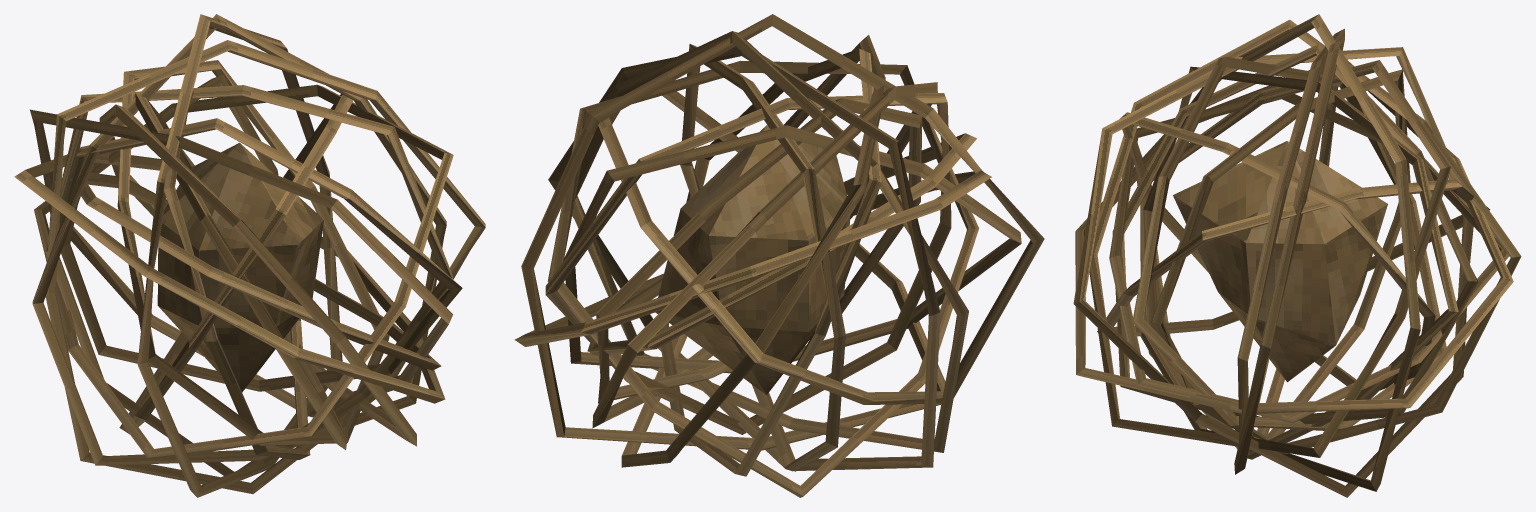
Rendered from tumbleweed.glb.
3 views of the same model, side by side, from view 1: azimuth 30°, elevation 25°; view 2: azimuth 150°, elevation 25°; view 3: azimuth 270°, elevation 25° (orthographic). The views are drawn at different scales.
Visible parts, largest first — view 1: tumbleweed_ball; view 2: tumbleweed_ball; view 3: tumbleweed_ball.
Boxes of the visible parts, x1,y1,x2,y2 form: tumbleweed_ball: [14, 14, 485, 497]; tumbleweed_ball: [514, 14, 1044, 497]; tumbleweed_ball: [1073, 14, 1521, 497].
Bounding box in the file's own units: 0.8105 × 0.8377 × 0.7772.
Materials: 1 (1 with a texture image).
